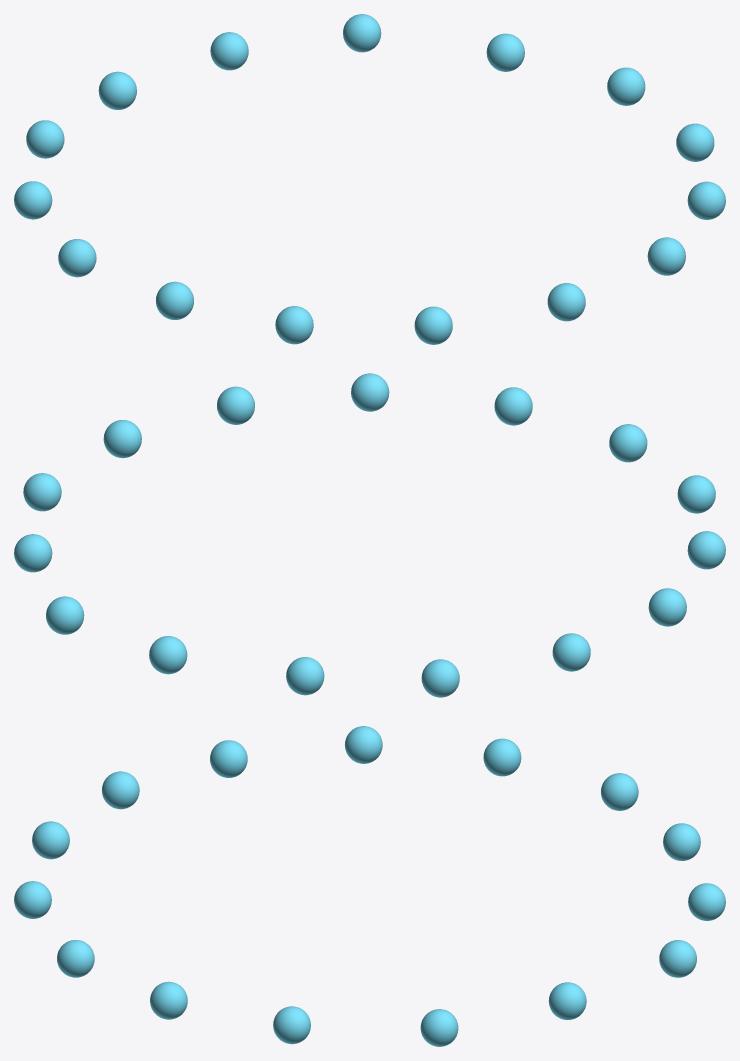
3 renders of one model, top to bottom at view 1: azimuth 30°, elevation 25°; view 2: azimuth 150°, elevation 25°; view 3: azimuth 270°, elevation 25°, orthographic.
Visible parts, largest first — view 1: Sphere049; view 2: Sphere049; view 3: Sphere049.
Boxes of the visible parts, bbox=[...] form: Sphere049: bbox=[14, 14, 725, 344]; Sphere049: bbox=[14, 373, 725, 697]; Sphere049: bbox=[14, 726, 725, 1046].
Size of the model in its own units: 153 by 8.22 by 154.
